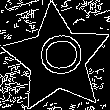O_W: (30, 35, 84, 83)
